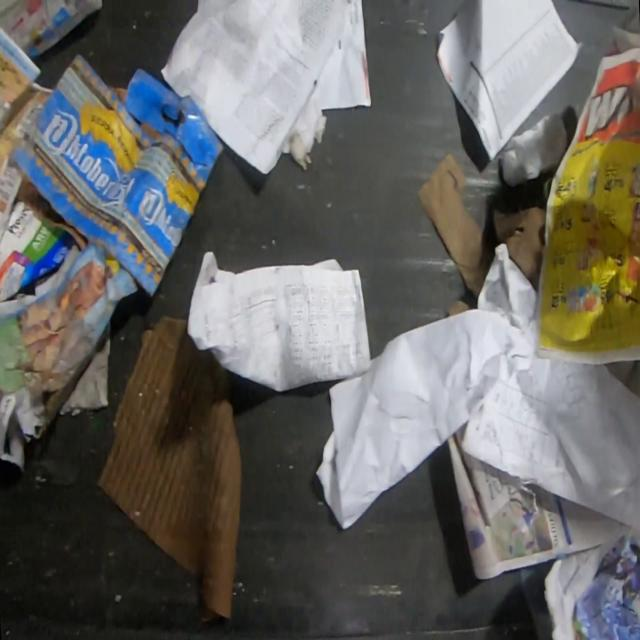cardboard: (14, 54, 223, 297), (96, 316, 242, 617), (415, 151, 547, 302), (0, 198, 74, 301)
